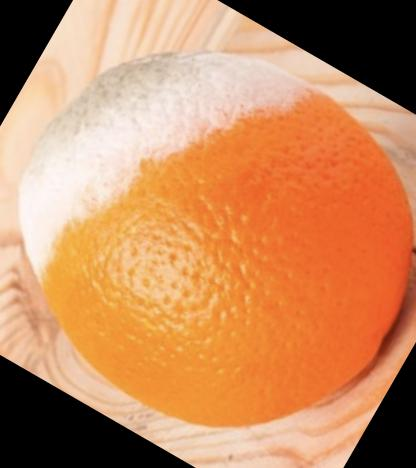Orange Rotten: (20, 42, 416, 428)
